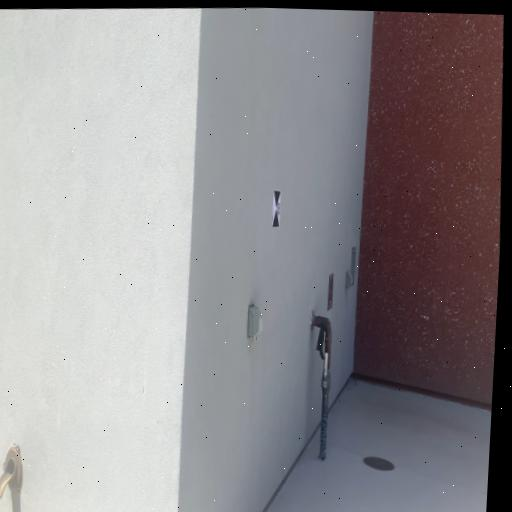target8: (271, 188, 281, 227)
